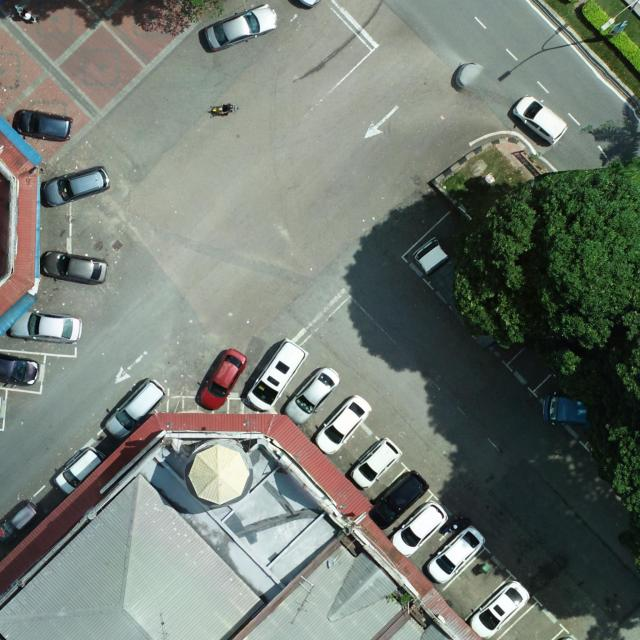Tree: (450, 168, 640, 356), (542, 336, 640, 519)
